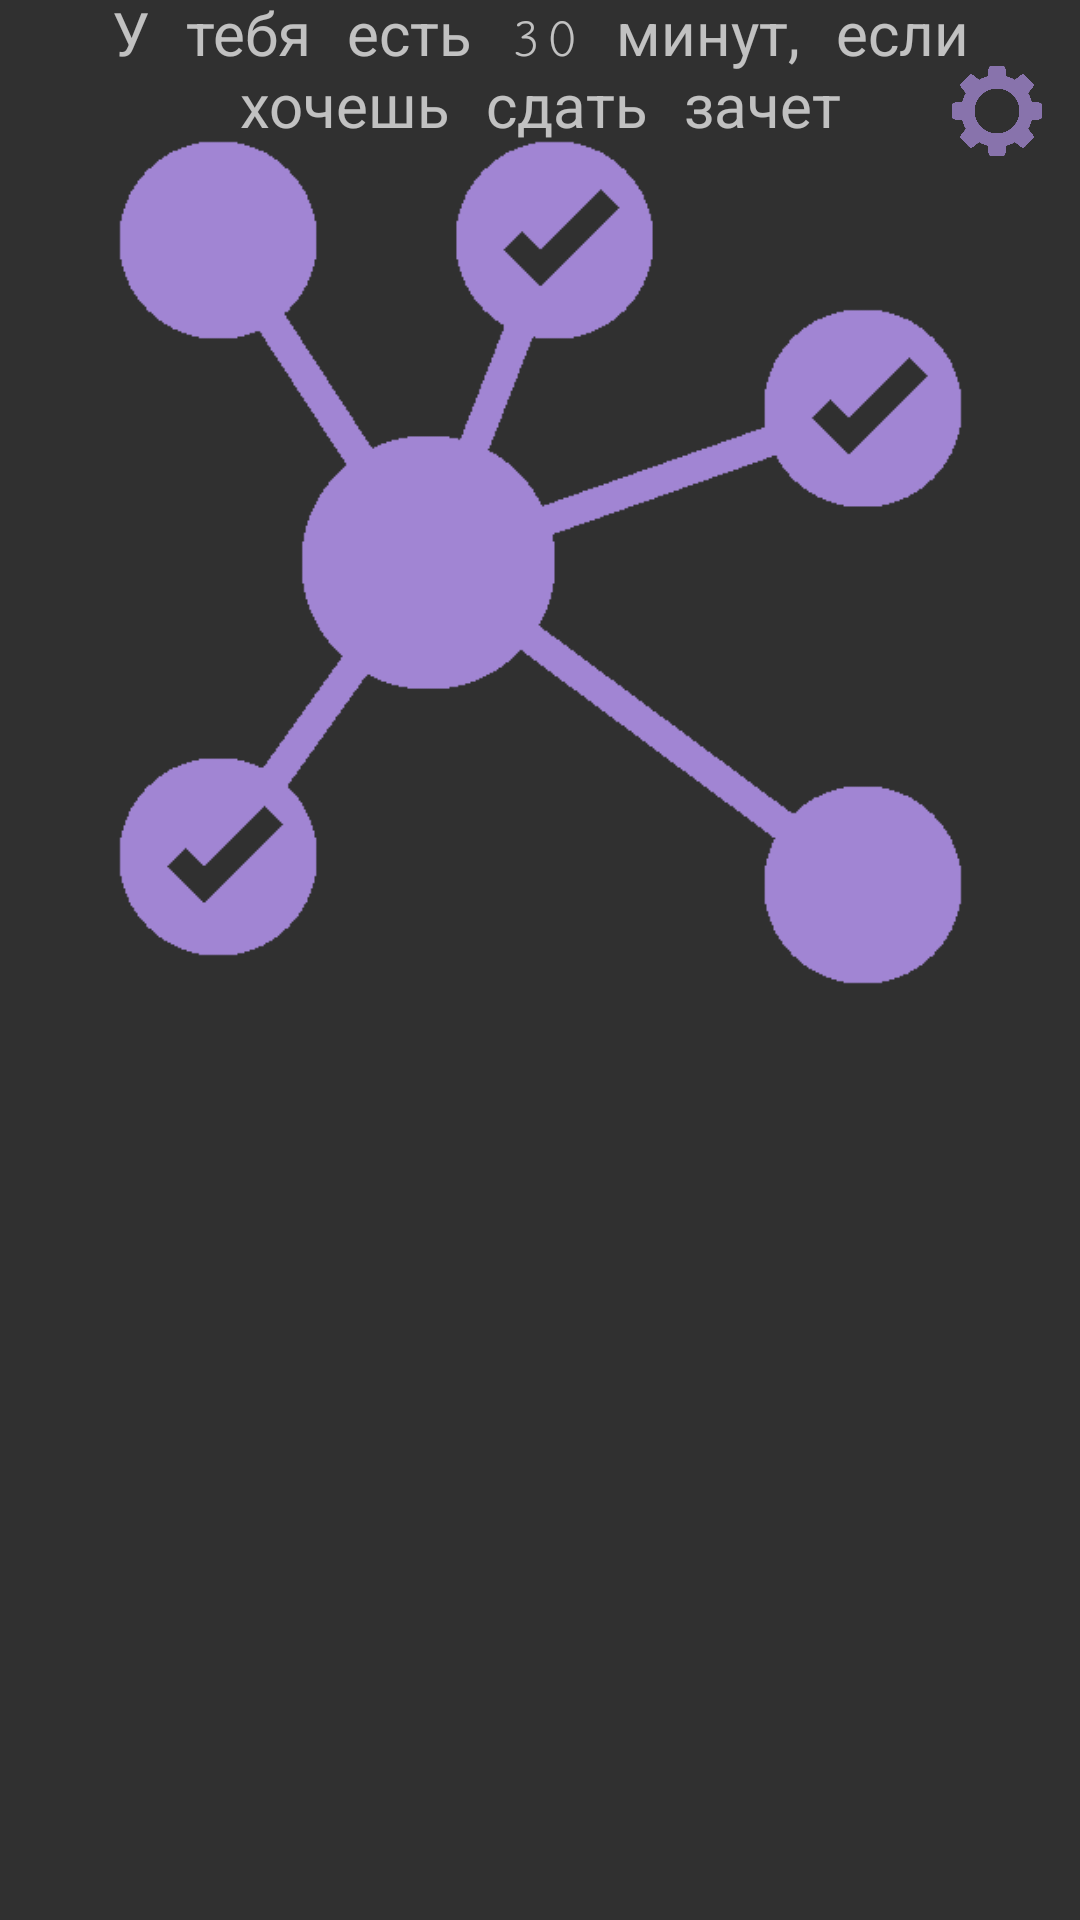

Icon click points for this 1080 x 1920 phone screenshot, format (x,y):
settings: (997,111)
